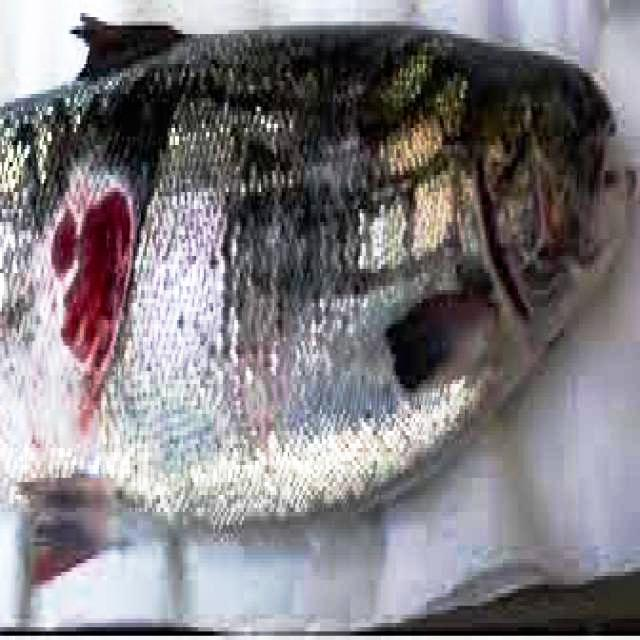Epizootic Ulcerative Syndrome -EUS-: (0, 17, 636, 579)
